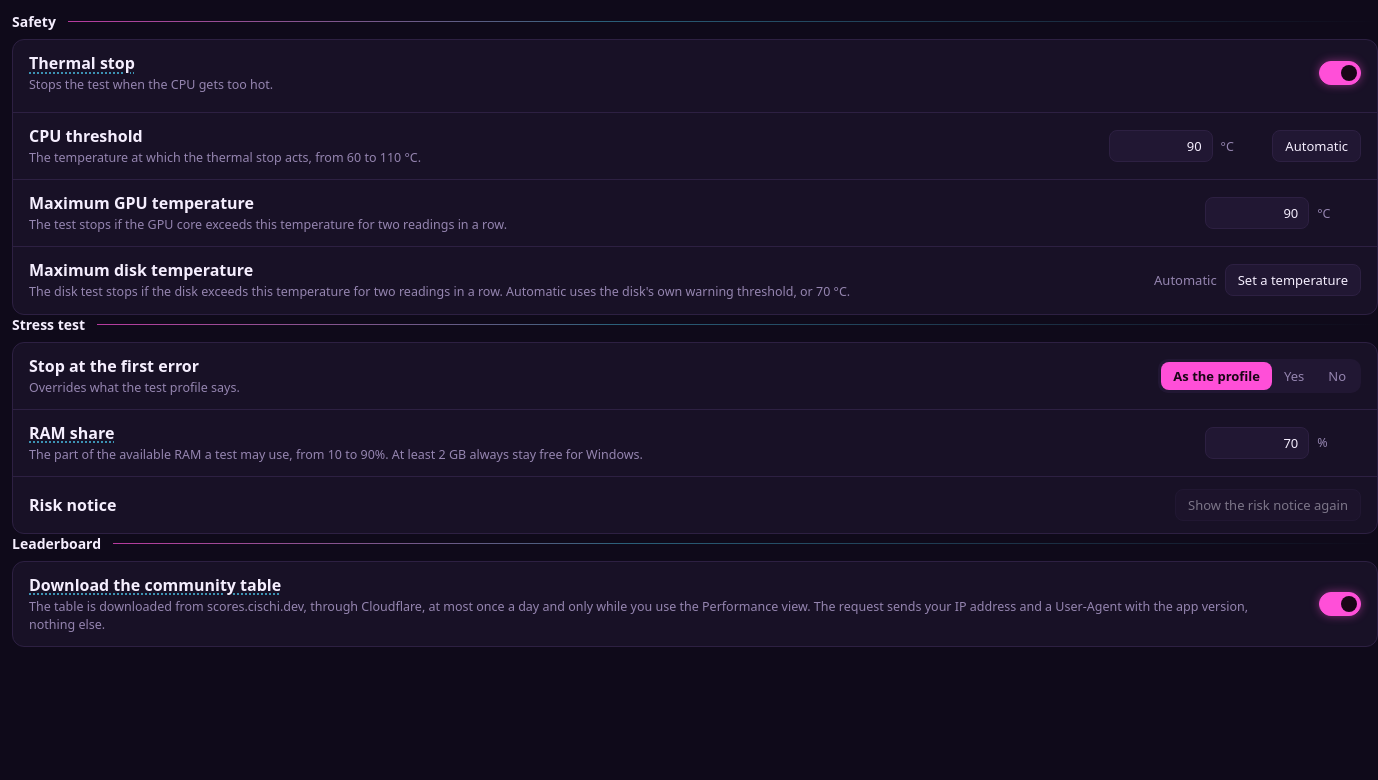
Scenario: automatic_threshold_sends_null
Click the button "Automatic". click: (1317, 146)
box: top-left (1272, 130), bottom-right (1361, 162)
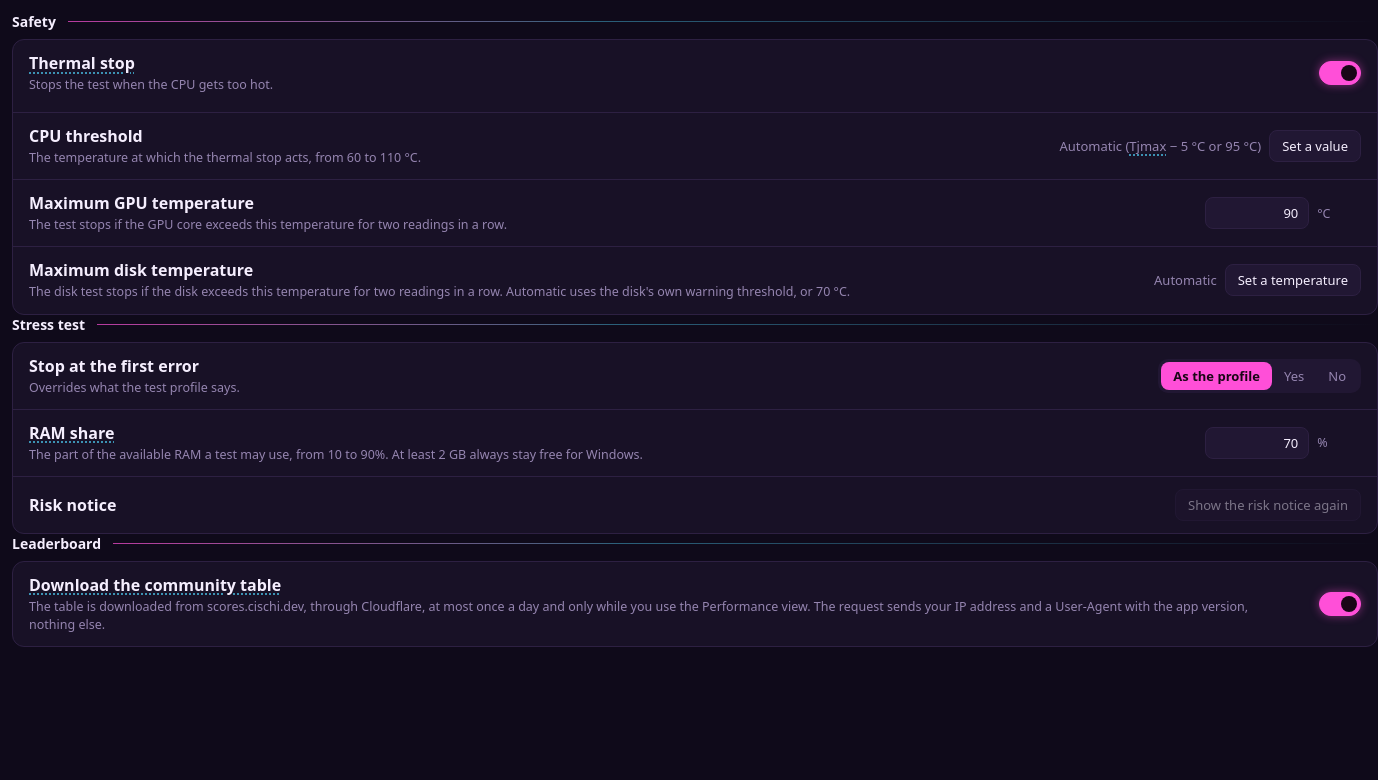
expect the element with class "auto" reads "Automatic (Tjmax − 5 °C or 95 °C)": met, box top-left (1059, 137), bottom-right (1261, 155)
expect the text with class "term" reads "Tjmax": met, box top-left (1129, 137), bottom-right (1166, 155)
